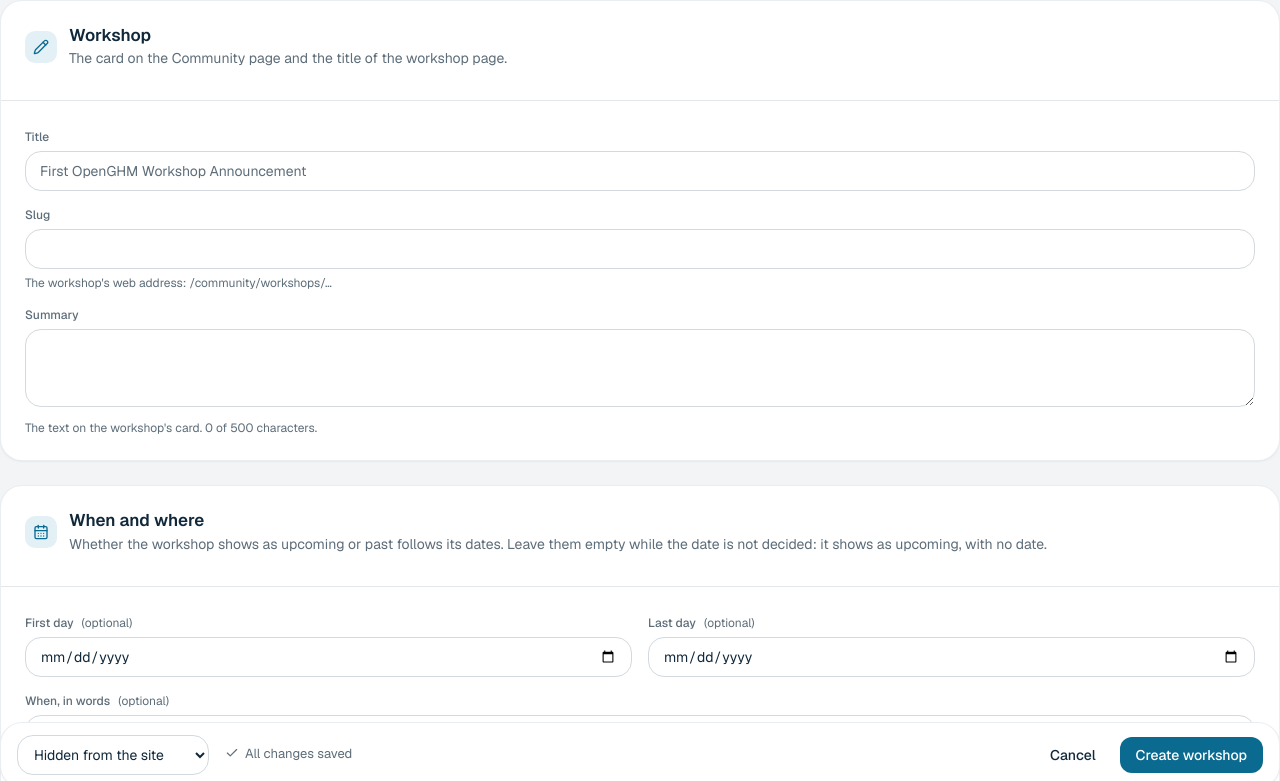
Test: a new workshop › shows the sign-in banner, not an error, when the session has ended
This screenshot has width=1280, height=781.
Type "First workshop" into the field labelled "Title" at (640, 171), box [25, 151, 1255, 191]
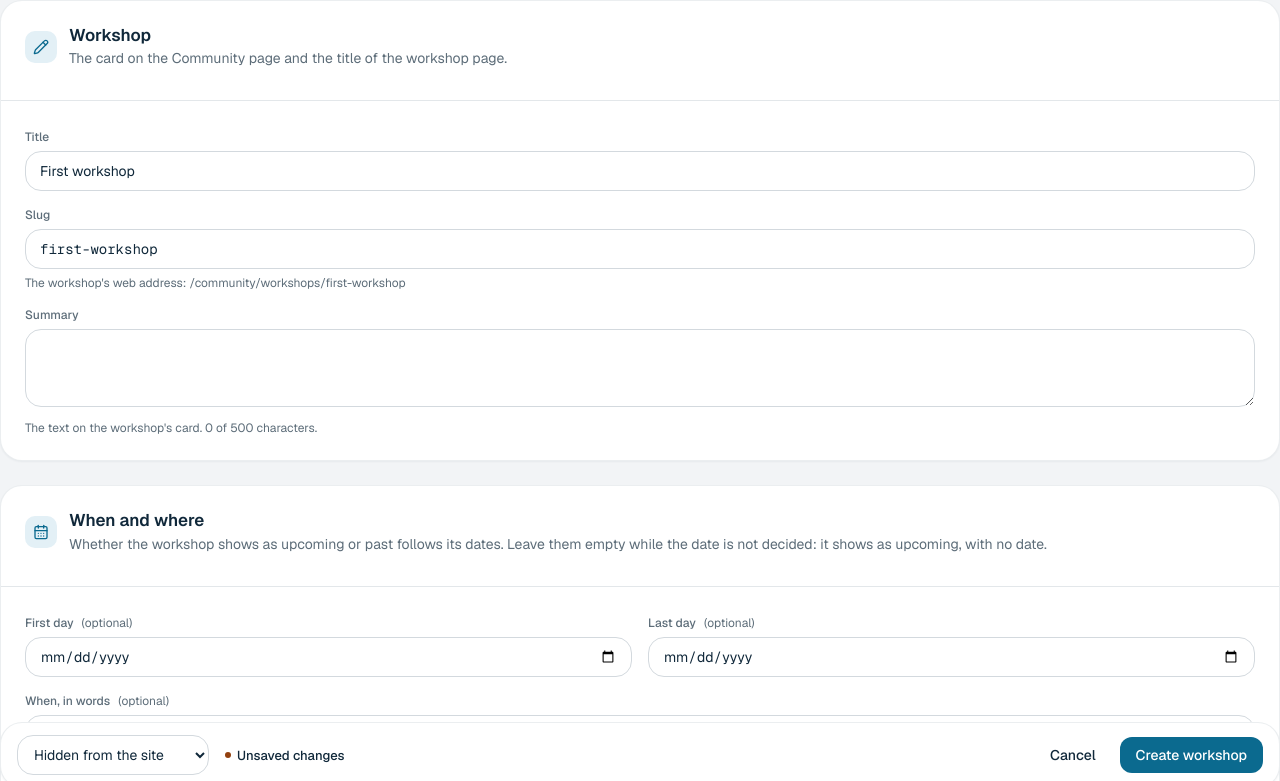
Type "2027-02-15" into the date field labelled "First day (optional)" at (328, 656), box [25, 636, 632, 676]
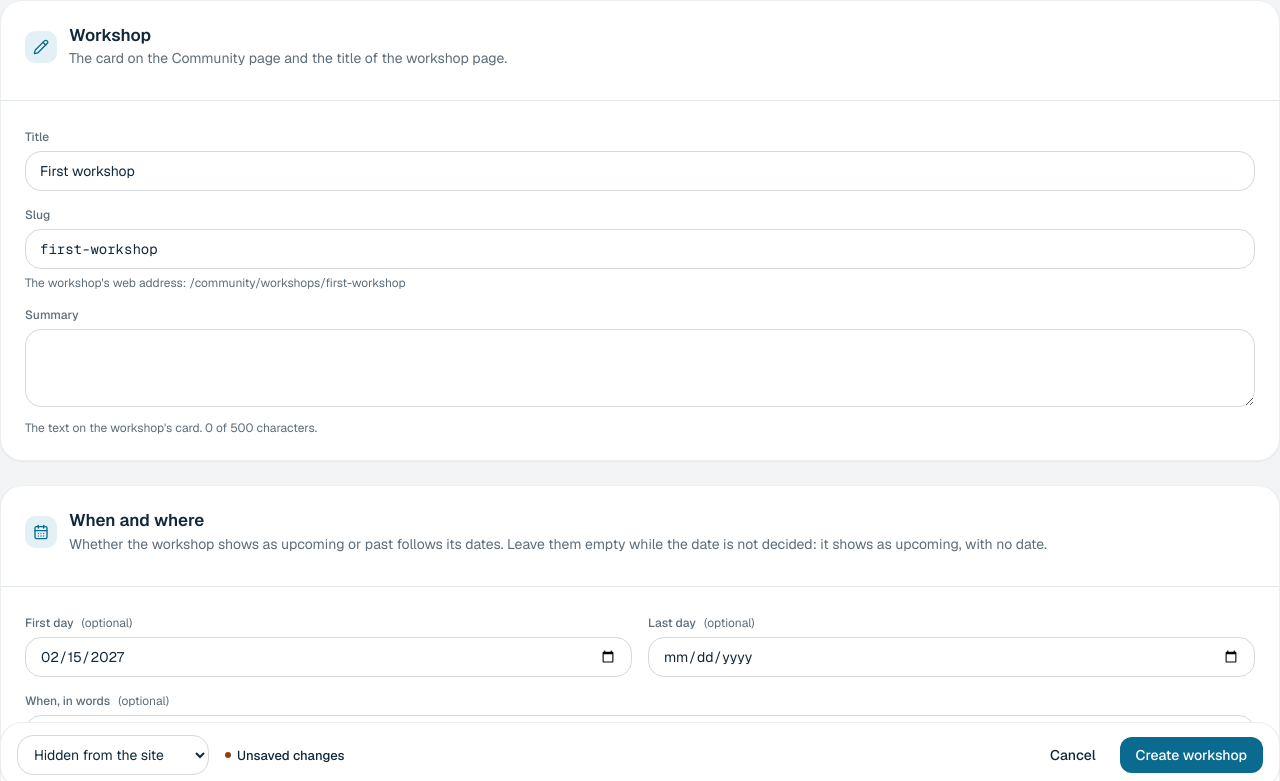
Click the button "Create workshop" at (1191, 755), box [1120, 737, 1263, 773]
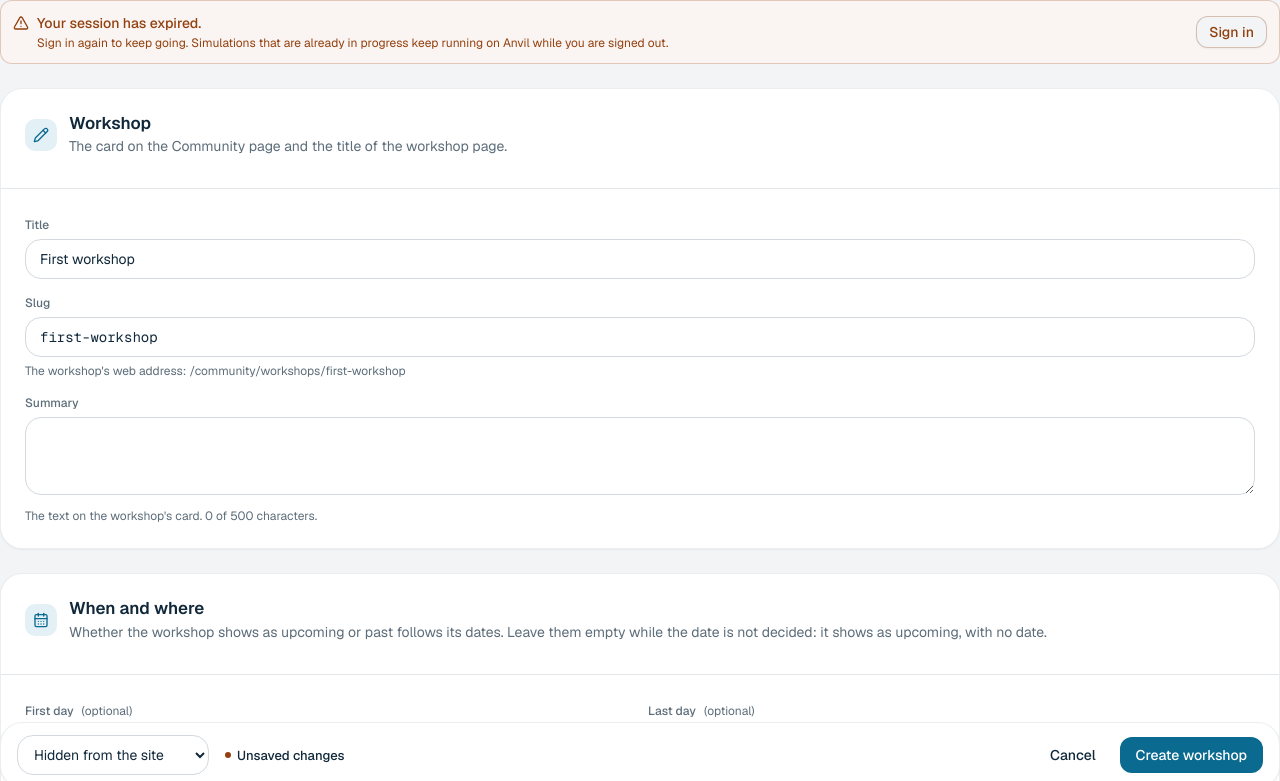
Expected: the text "Your session has expired." is shown, [37, 14, 201, 32]
Expected: the link "Sign in" is shown, [1196, 16, 1267, 48]
